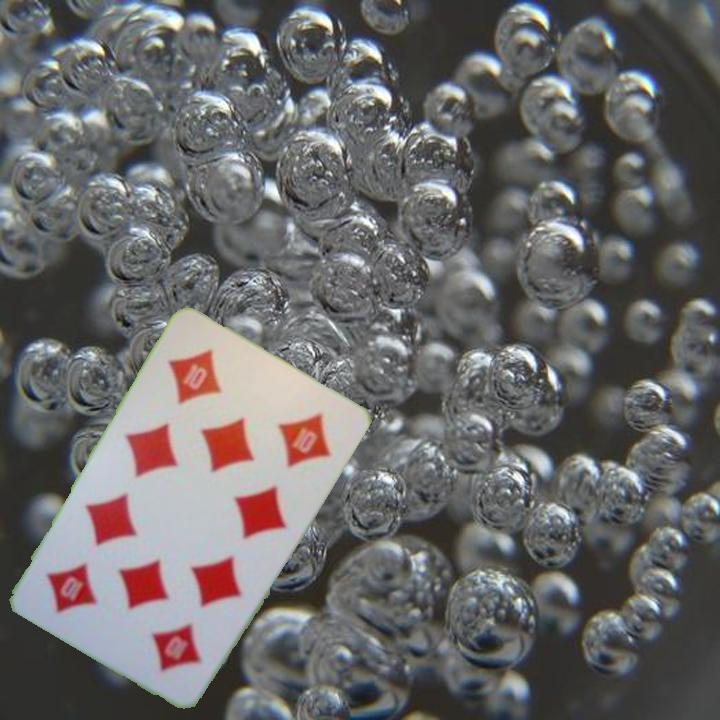d_10.png: (104, 573, 232, 696), (144, 322, 272, 445)
